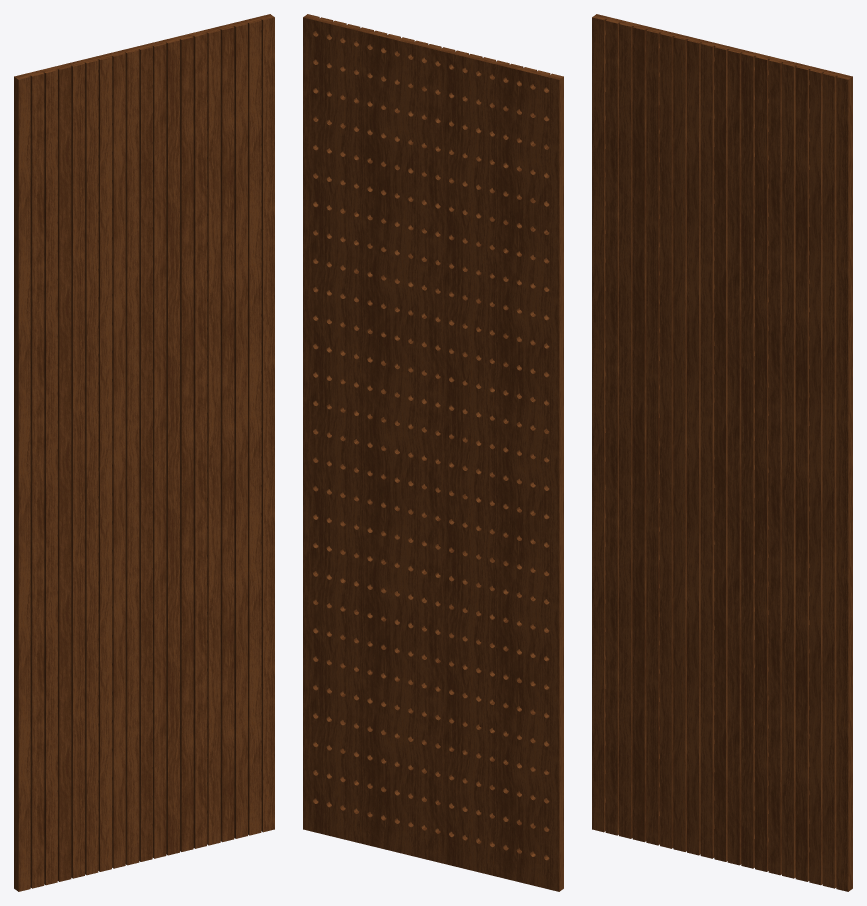
Rendered from DSA_28_4.glb.
3 views of the same model, side by side, from view 1: azimuth 30°, elevation 25°; view 2: azimuth 150°, elevation 25°; view 3: azimuth 330°, elevation 25° (orthographic).
Visible parts, largest first — view 1: DSA 28_4 v1; view 2: DSA 28_4 v1; view 3: DSA 28_4 v1.
Boxes of the visible parts, x1,y1,x2,y2 form: DSA 28_4 v1: (14,14,274,891); DSA 28_4 v1: (303,14,563,891); DSA 28_4 v1: (592,14,852,891).
Size of the model in its own units: 23.78 by 72 by 0.7515.
1 material, 1 textured.
